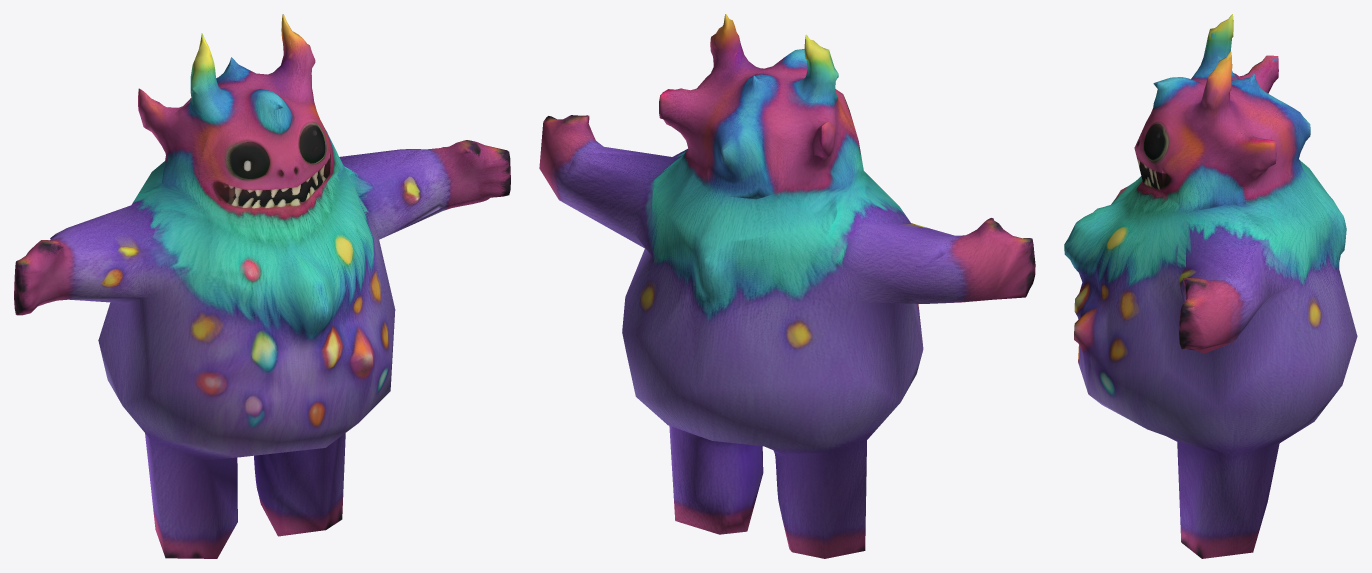
Rendered from gemhorn.glb.
The picture shows the model from 3 angles, left to right: view 1: azimuth 30°, elevation 25°; view 2: azimuth 150°, elevation 25°; view 3: azimuth 270°, elevation 25°; orthographic projection. The views are drawn at different scales.
Parts seen in each view (by area): view 1: tripo_node_4c802111-0928-4fa4-9a69-6940f4427006; view 2: tripo_node_4c802111-0928-4fa4-9a69-6940f4427006; view 3: tripo_node_4c802111-0928-4fa4-9a69-6940f4427006.
Boxes of the visible parts, x1,y1,x2,y2 form: tripo_node_4c802111-0928-4fa4-9a69-6940f4427006: (14, 14, 510, 558); tripo_node_4c802111-0928-4fa4-9a69-6940f4427006: (539, 14, 1035, 558); tripo_node_4c802111-0928-4fa4-9a69-6940f4427006: (1064, 14, 1357, 558).
Size of the model in its own units: 0.9907 by 1 by 0.5371.
Materials: 1 (1 with a texture image).
